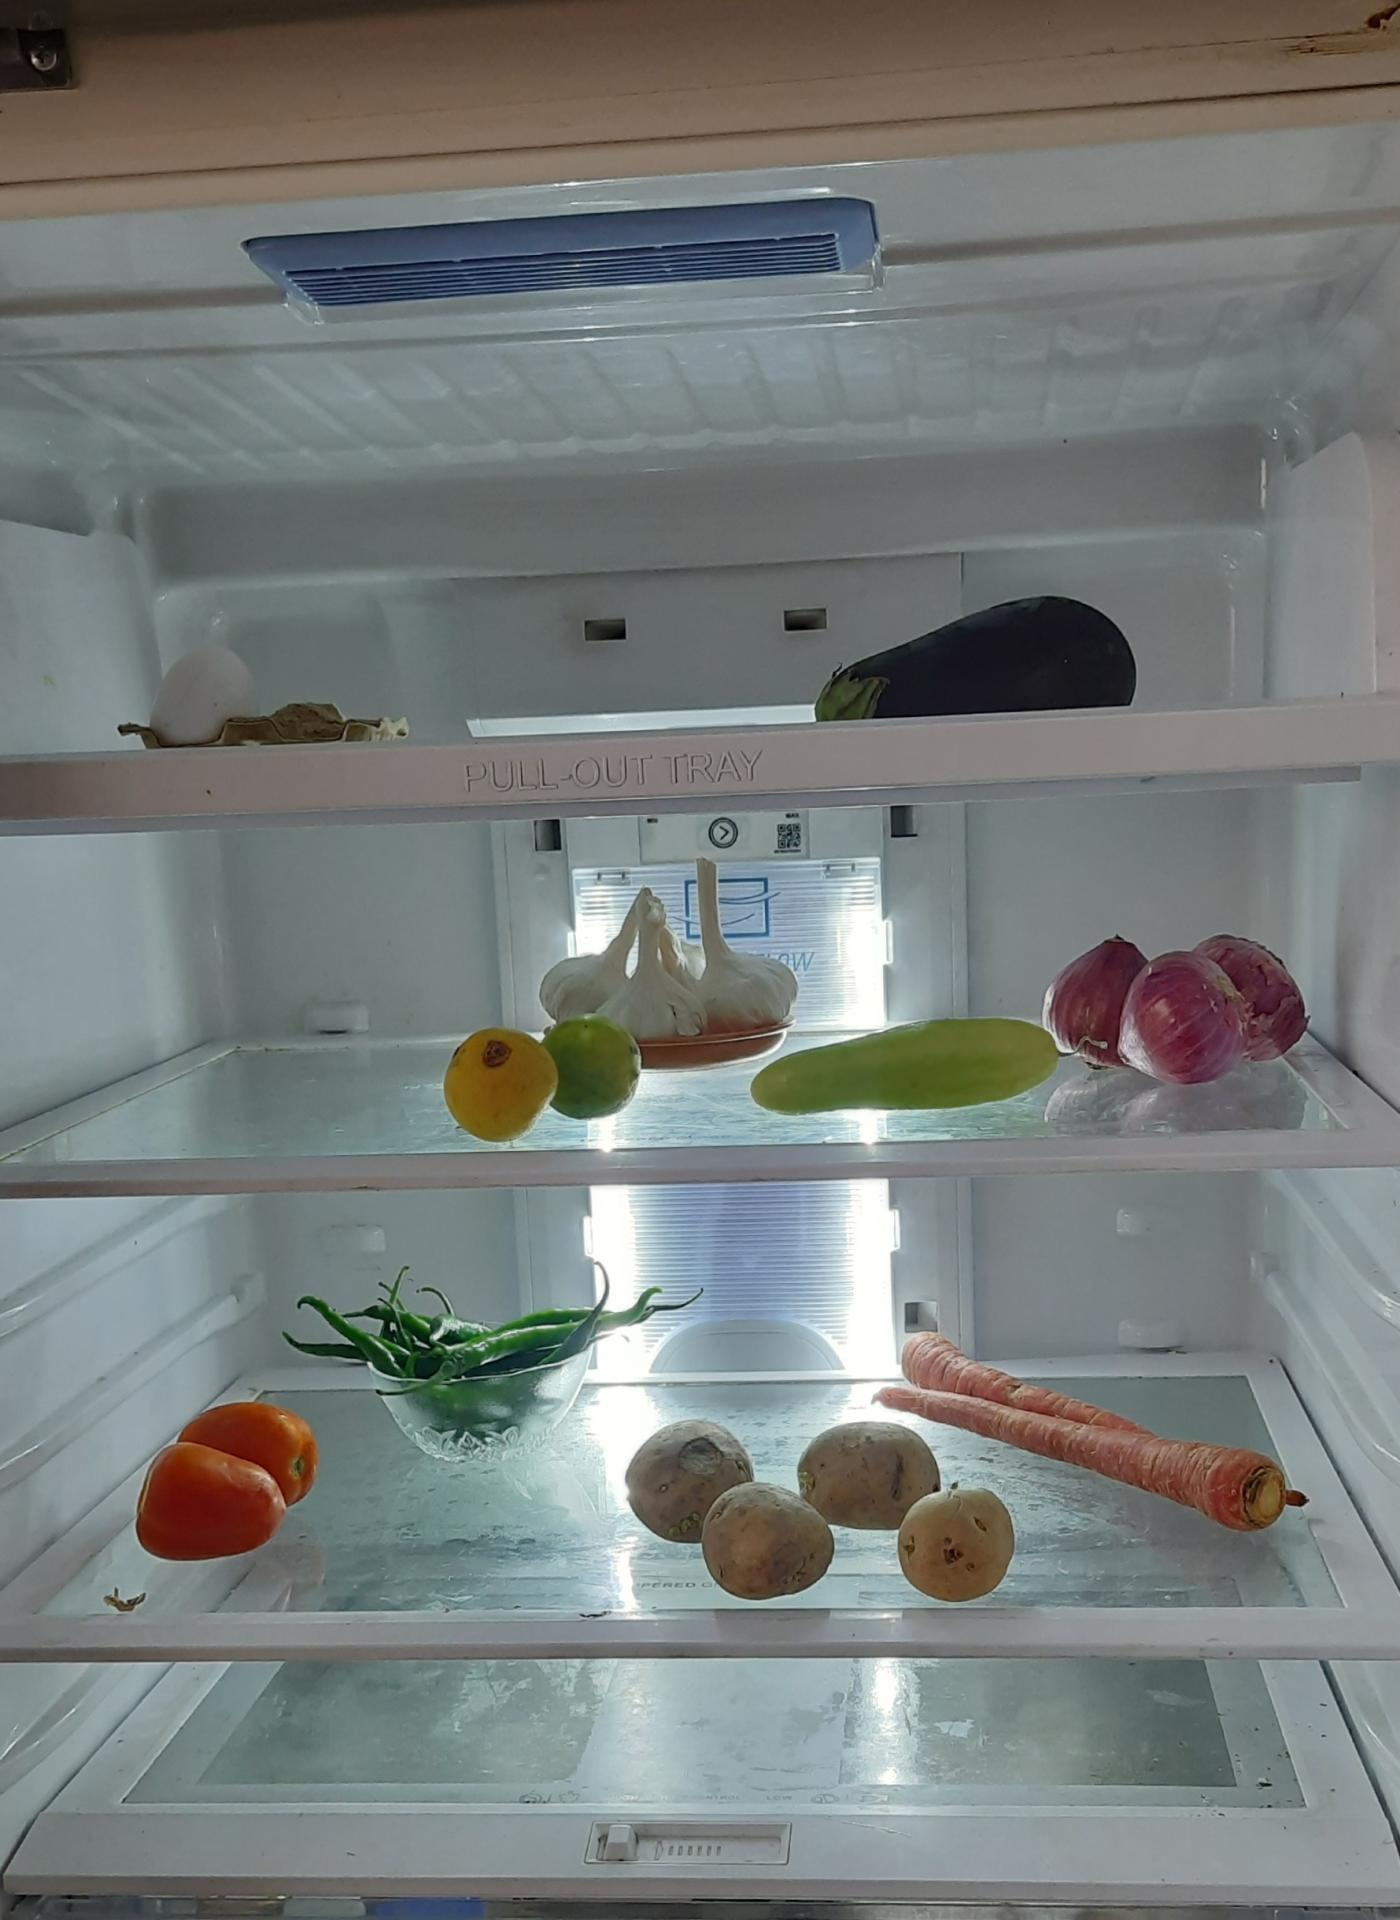brinjal: (795, 590, 1142, 723)
carrots: (851, 1327, 1315, 1541)
chillies: (297, 1272, 626, 1436)
cucumber: (744, 1018, 1063, 1111)
garlic: (534, 856, 799, 1036)
ginger: (128, 693, 413, 748)
lemon: (443, 1014, 653, 1137)
onion: (1050, 933, 1319, 1090)
potato: (789, 1416, 1030, 1598), (614, 1427, 841, 1597), (881, 1483, 1029, 1597)
tomato: (127, 1395, 319, 1567)
